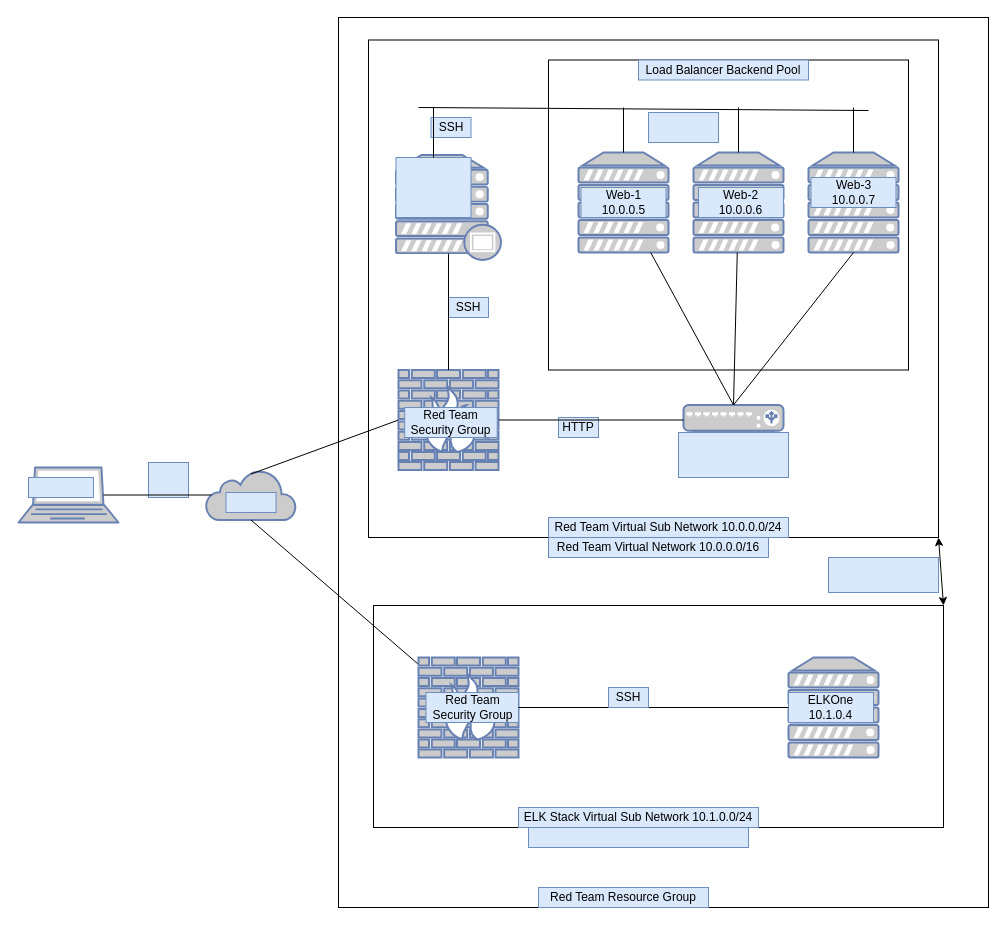
Image size: 1006x925. Some labels were removed from this diagram. The centre of each missing label's shape, as x and y in pixels:
"Computer" belongs at point 61,487.
"DVWA Containers" belongs at point 683,127.
"ELK Stack Virtual Network 10.1.0.0/16" belongs at point 638,837.
"Internet" belongs at point 250,502.
"Jump Box ansible 15.142.14.38 10.0.0.4" belongs at point 433,187.
"Peer Network Connection" belongs at point 883,574.
"Red team Load Balancer 52.152.231.60" belongs at point 733,455.
"SSH / HTTP" belongs at point 168,480.
